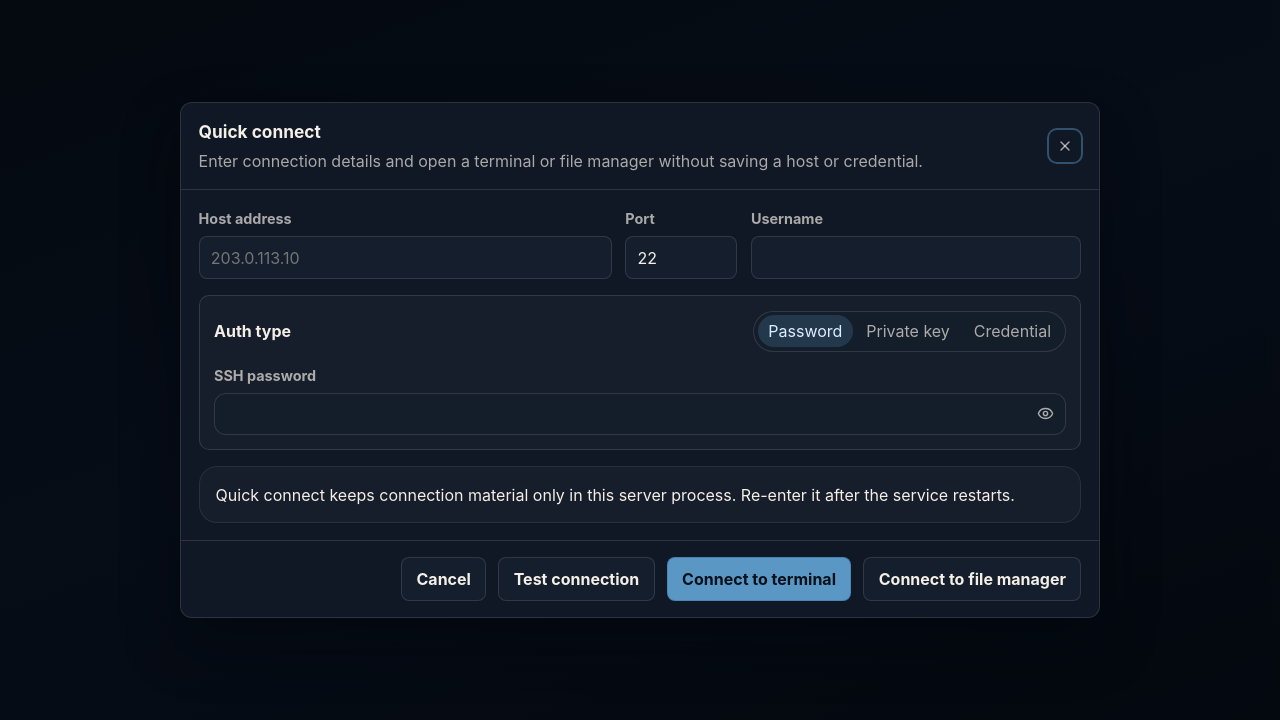
Test: TemporaryQuickConnectDialog › shows connection test failures through toast only
Type "203.0.113.227" into the field labelled "Host address" at (405, 258), box [199, 236, 612, 280]
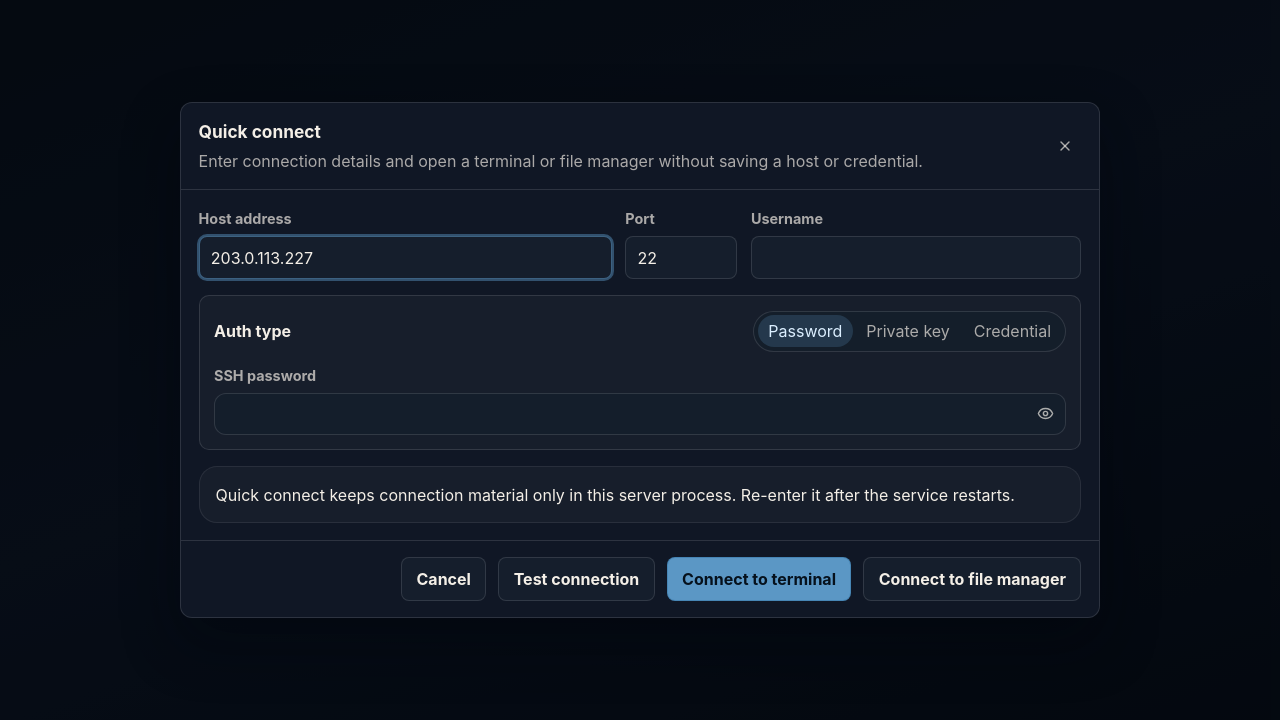
Type "gyl" into the field labelled "Username" at (916, 258), box [751, 236, 1081, 280]
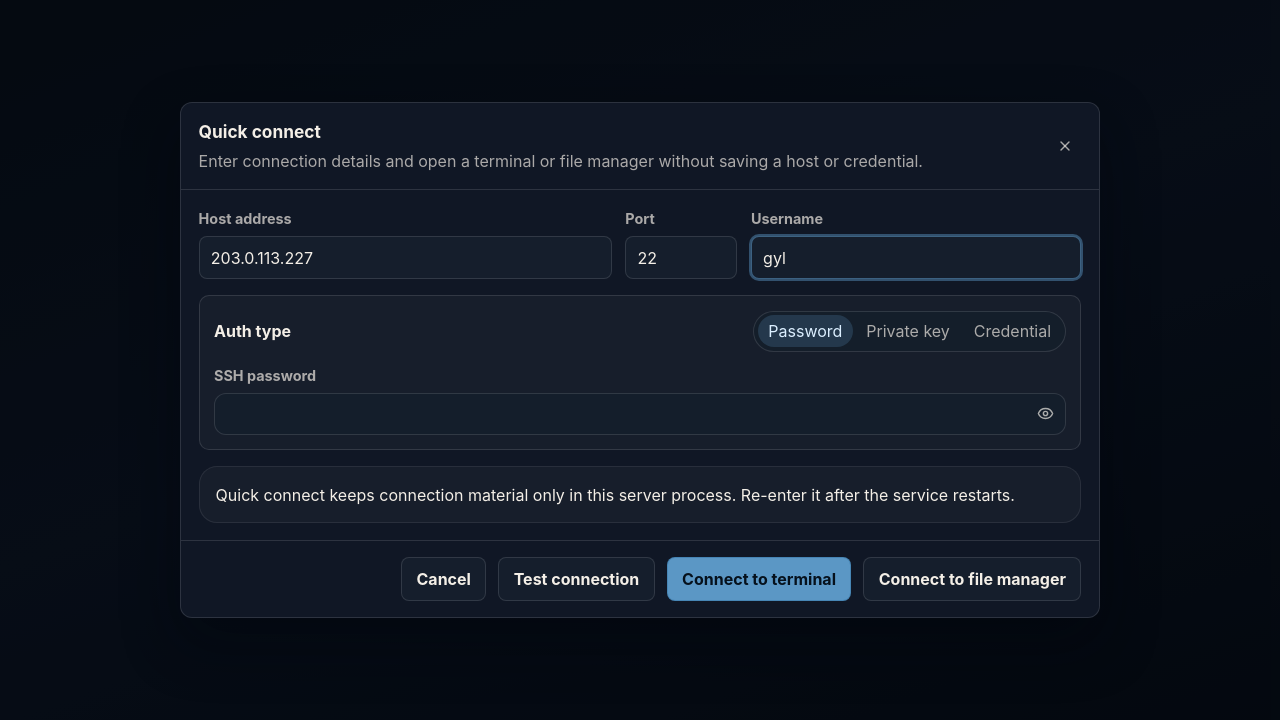
Type "wrong-password" into the password field labelled "SSH password" at (620, 414), box [215, 394, 1025, 434]
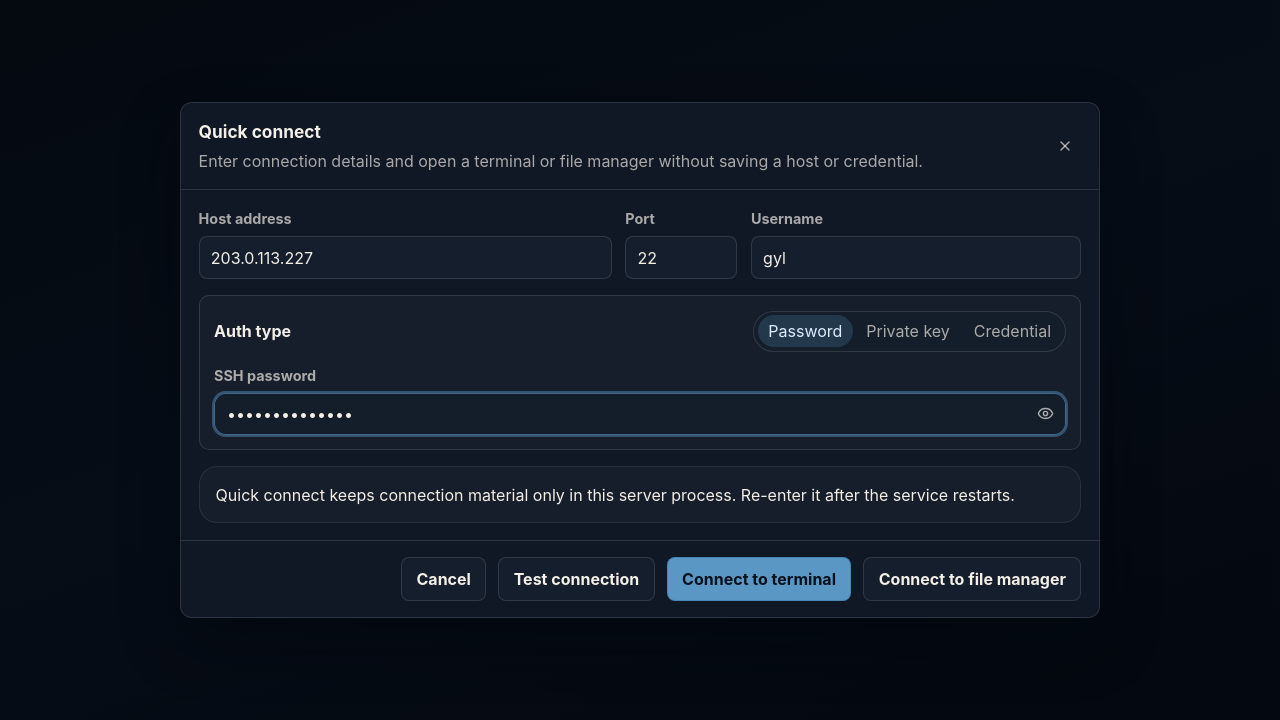
Click the button "Test connection" at (576, 579), box [498, 557, 655, 601]
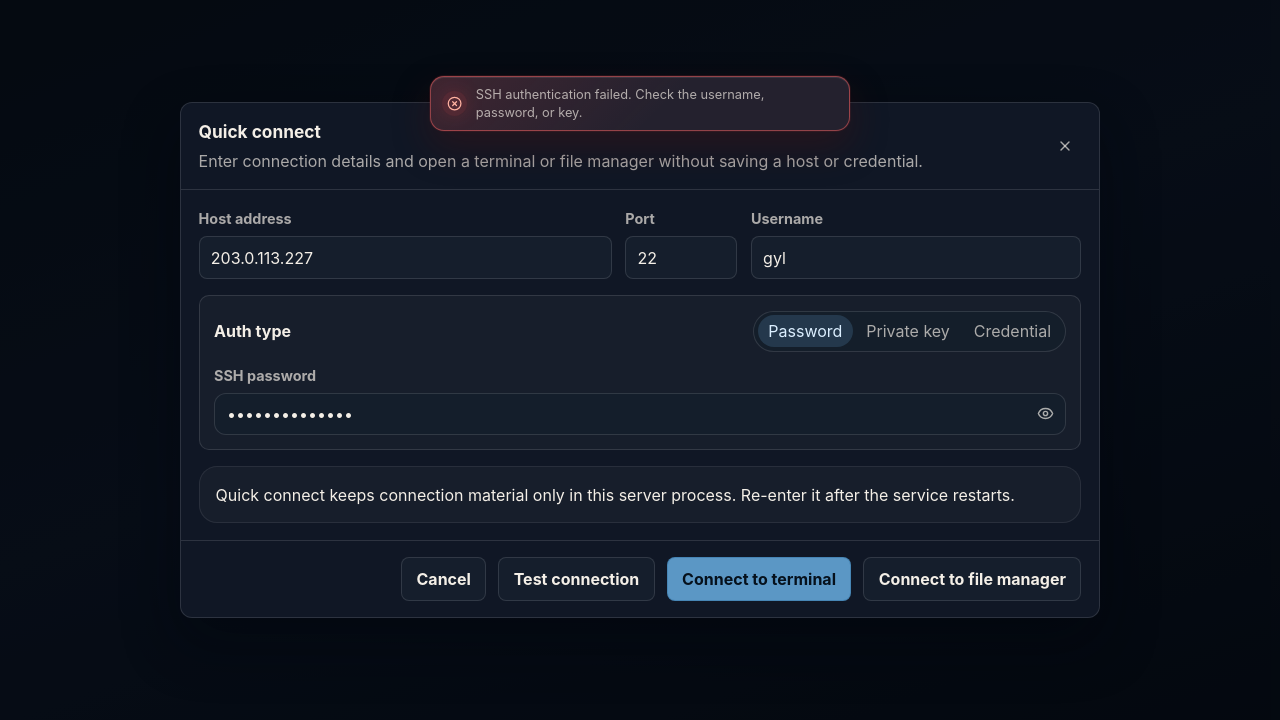
Expected: the text "SSH authentication failed. Check the username, password, or key." is shown, [476, 86, 804, 121]
